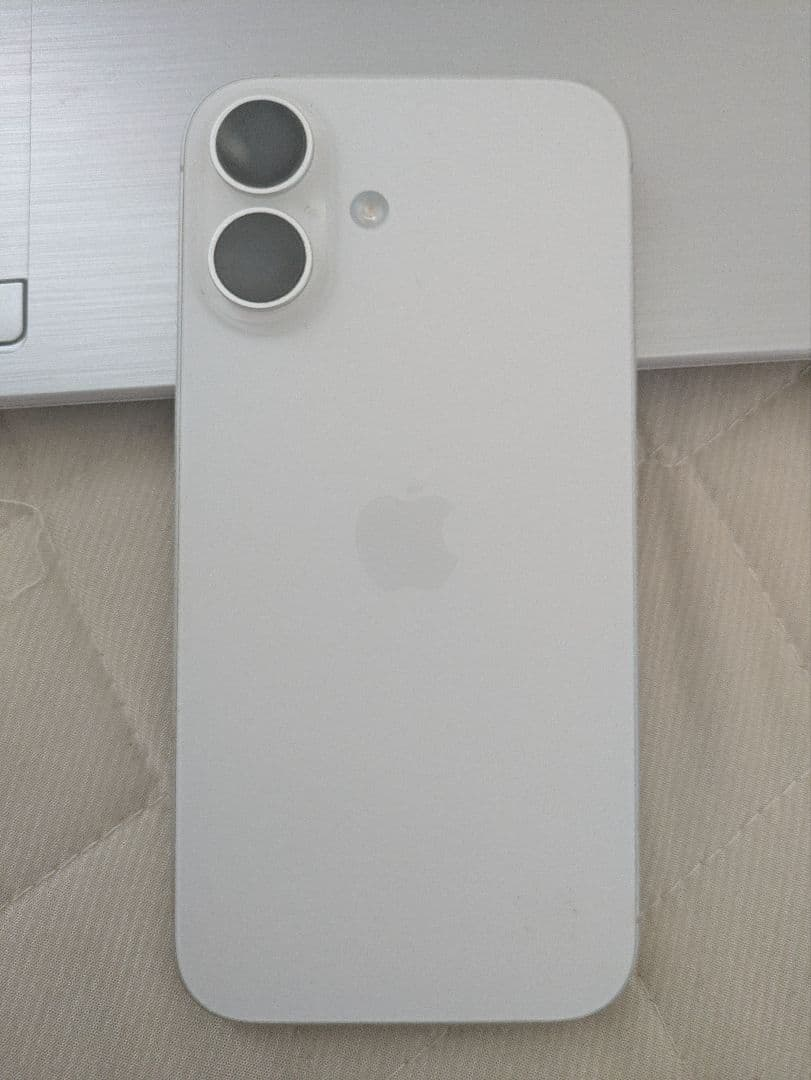iphone16_white: (147, 58, 677, 1043), (184, 87, 428, 341)
